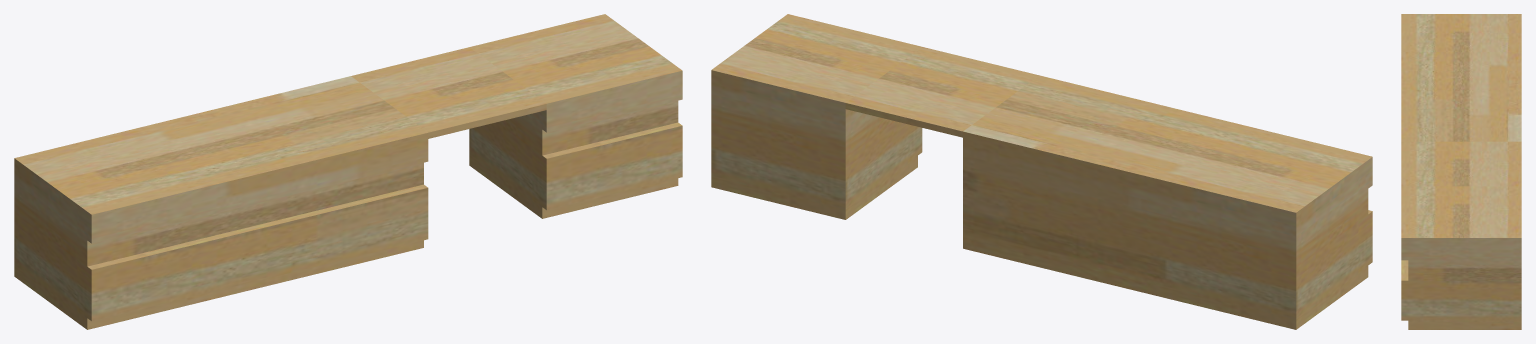
Rendered from desk.obj.
3 views of the same model, side by side, from view 1: azimuth 30°, elevation 25°; view 2: azimuth 150°, elevation 25°; view 3: azimuth 270°, elevation 25° (orthographic). The views are drawn at different scales.
Parts seen in each view (by area): view 1: group_8, group_7, group_9; view 2: group_8, group_7, group_9; view 3: group_7, group_8, group_9.
Boxes of the visible parts, bbox=[...] form: group_8: bbox=[14, 76, 428, 329]; group_7: bbox=[469, 14, 682, 218]; group_9: bbox=[351, 47, 546, 138]; group_8: bbox=[963, 75, 1372, 329]; group_7: bbox=[711, 14, 922, 219]; group_9: bbox=[845, 47, 1039, 137]; group_7: bbox=[1401, 186, 1521, 329]; group_8: bbox=[1401, 14, 1521, 141]; group_9: bbox=[1401, 141, 1521, 186].
Size of the model in its own units: 2.25 by 0.4302 by 0.51.
1 material, 1 textured.
